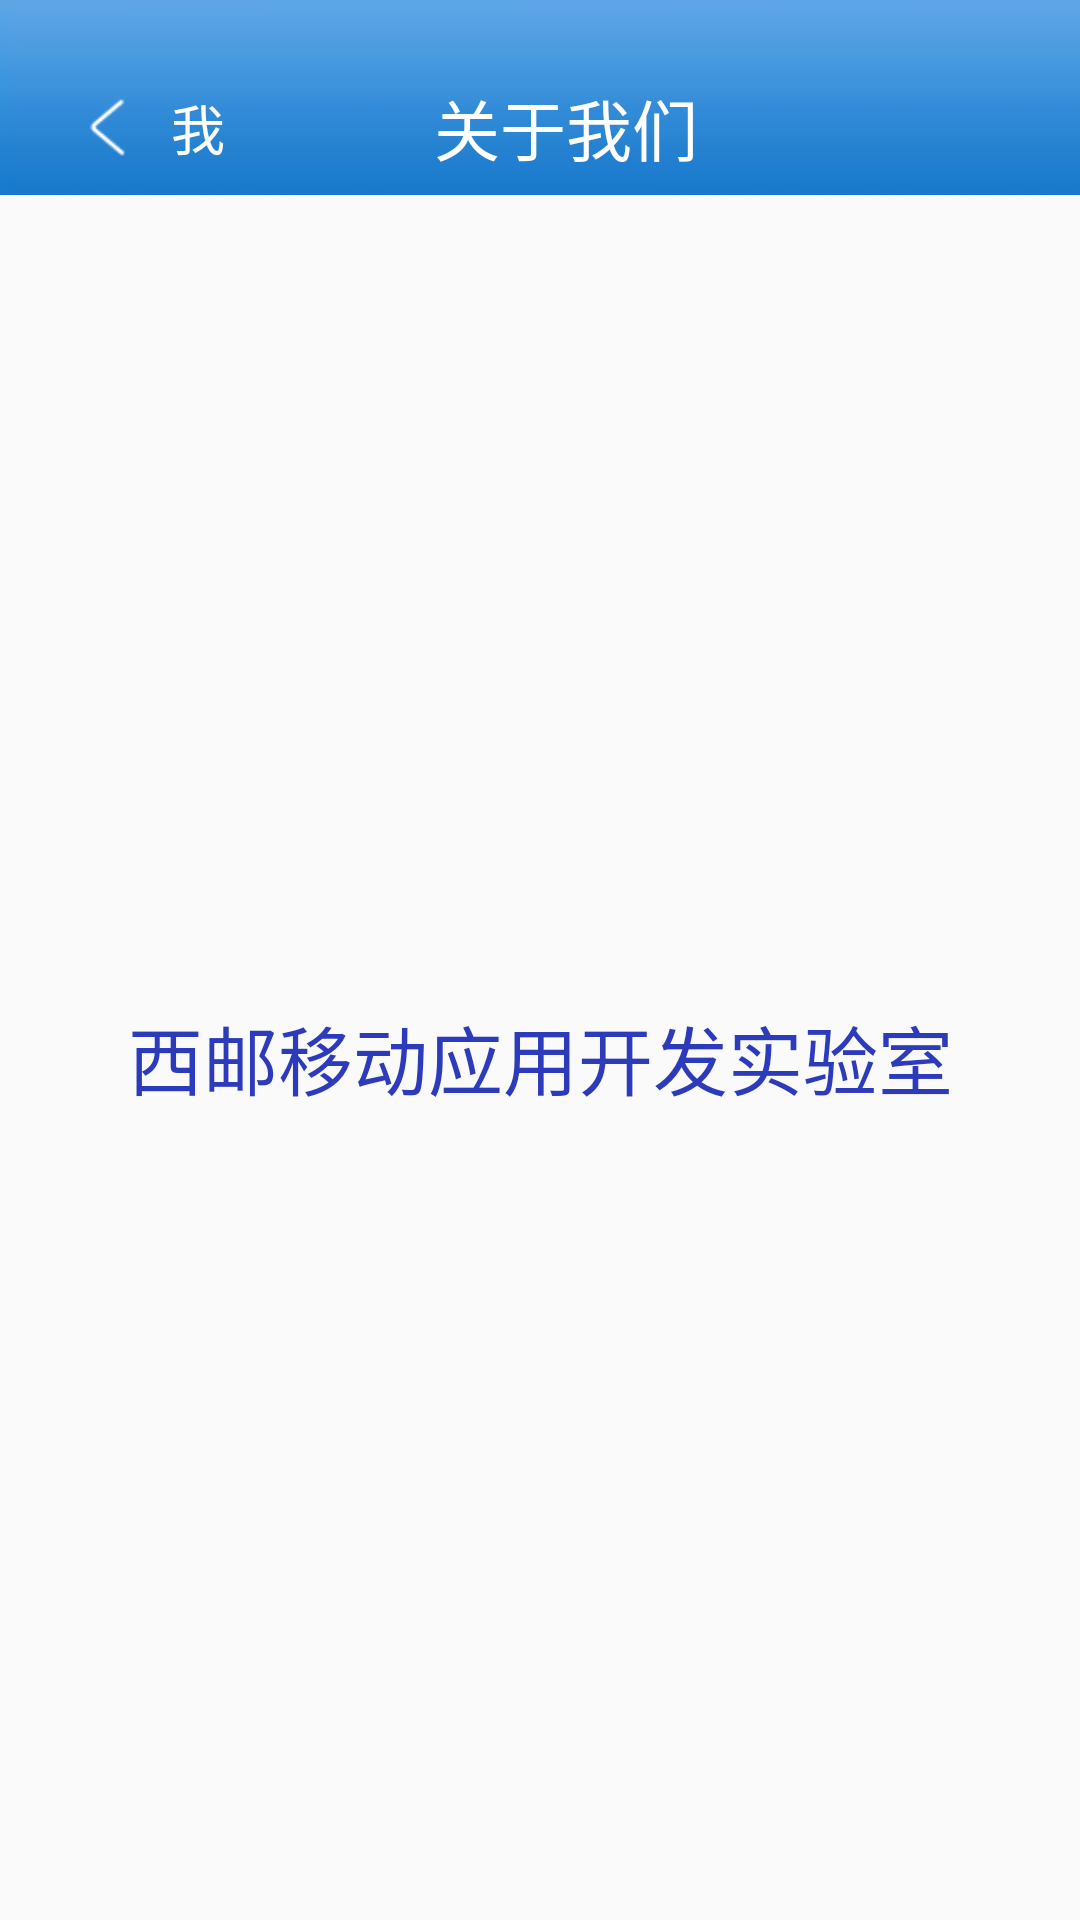

Where icons sit on this 1080w x 1920h app screen, as (x1, y1, x2, y2):
backtome: (90, 99, 125, 156)
